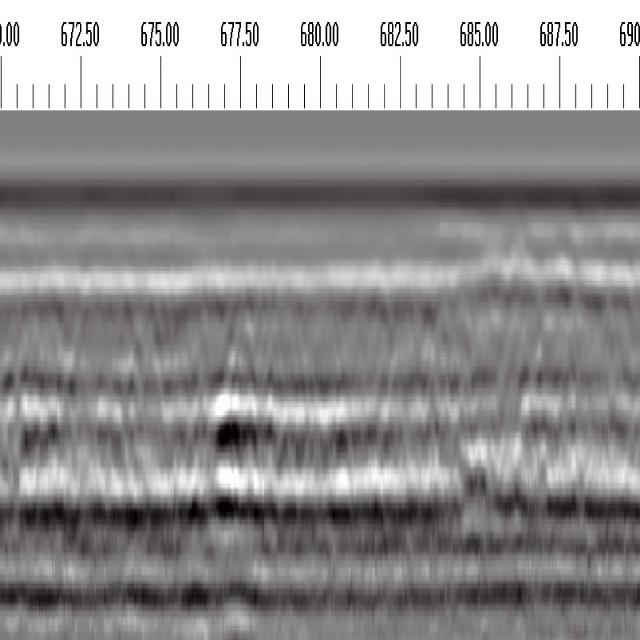loose: (173, 372, 286, 531)
